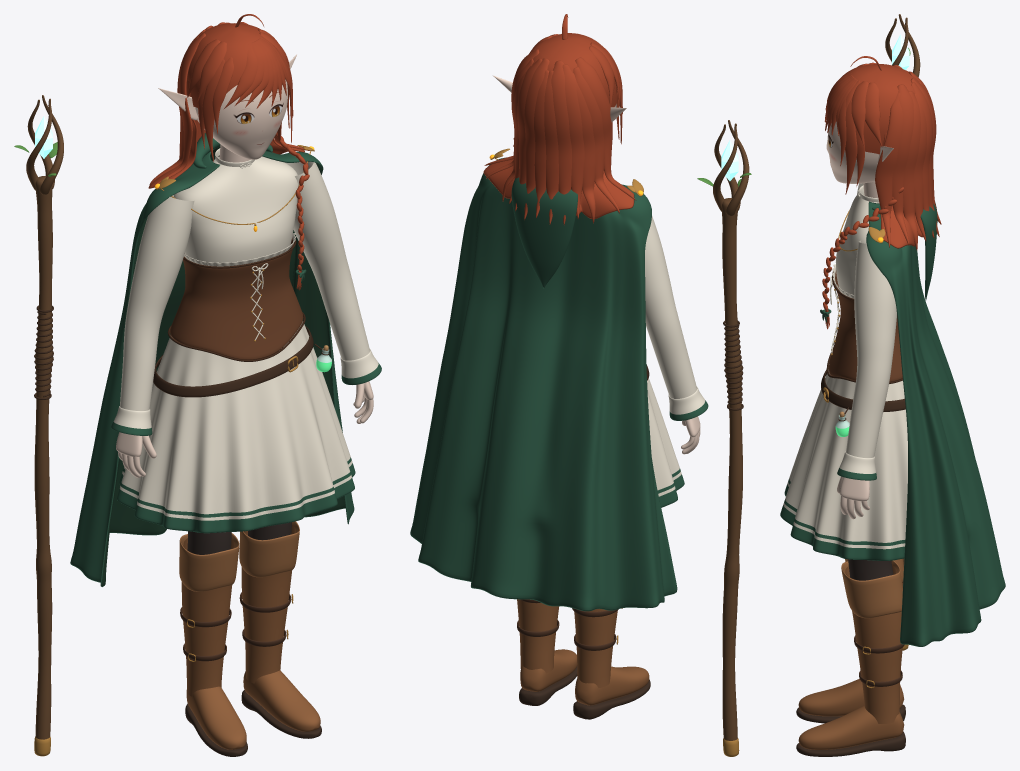
File: elf_mage.glb
3 views of the same model, side by side, from view 1: azimuth 30°, elevation 25°; view 2: azimuth 150°, elevation 25°; view 3: azimuth 270°, elevation 25° (orthographic). The views are drawn at different scales.
Visible parts, largest first — view 1: Skirt, Cape, Corset, Blouse_Torso, Staff_Wood, Sleeve.R, Hair, Sleeve.L, Boot.L, Boot.R, Head, Boot_Cuff.R (+14 smaller); view 2: Cape, Hair, Staff_Wood, Sleeve.R, Hood, Boot.R, Boot.L, Skirt, Hair_Cap, Hair_Back, Boot_Sole.R, Cuff.R (+2 smaller); view 3: Cape, Skirt, Hair, Sleeve.L, Boot.L, Boot_Cuff.L, Corset, Hair_Cap, Boot.R, Blouse_Torso, Head, Hand.L (+9 smaller).
Boxes of the visible parts, x1=… form: Skirt: x1=117, y1=321, x2=355, y2=533; Cape: x1=70, y1=146, x2=354, y2=586; Corset: x1=170, y1=238, x2=303, y2=359; Blouse_Torso: x1=174, y1=155, x2=298, y2=262; Staff_Wood: x1=26, y1=95, x2=63, y2=739; Sleeve.R: x1=119, y1=195, x2=194, y2=410; Hair: x1=149, y1=14, x2=309, y2=186; Sleeve.L: x1=284, y1=161, x2=369, y2=360; Boot.L: x1=241, y1=524, x2=320, y2=731; Boot.R: x1=181, y1=538, x2=246, y2=749; Head: x1=195, y1=79, x2=287, y2=159; Boot_Cuff.R: x1=179, y1=533, x2=239, y2=591; Cape: x1=410, y1=157, x2=677, y2=611; Hair: x1=484, y1=14, x2=636, y2=225; Staff_Wood: x1=713, y1=120, x2=749, y2=740; Sleeve.R: x1=645, y1=216, x2=696, y2=398; Hood: x1=511, y1=177, x2=577, y2=288; Boot.R: x1=574, y1=609, x2=649, y2=705; Boot.L: x1=517, y1=599, x2=577, y2=691; Skirt: x1=647, y1=378, x2=684, y2=507; Hair_Cap: x1=529, y1=33, x2=616, y2=107; Hair_Back: x1=483, y1=159, x2=634, y2=218; Boot_Sole.R: x1=573, y1=679, x2=650, y2=719; Cuff.R: x1=668, y1=386, x2=708, y2=420; Cape: x1=866, y1=201, x2=1005, y2=646; Skirt: x1=780, y1=369, x2=907, y2=560; Hair: x1=824, y1=56, x2=941, y2=250; Sleeve.L: x1=846, y1=240, x2=896, y2=457; Boot.L: x1=798, y1=565, x2=904, y2=749; Boot_Cuff.L: x1=841, y1=560, x2=902, y2=618; Corset: x1=829, y1=270, x2=902, y2=382; Hair_Cap: x1=841, y1=64, x2=919, y2=154; Boot.R: x1=798, y1=582, x2=904, y2=716; Blouse_Torso: x1=836, y1=193, x2=879, y2=297; Head: x1=826, y1=121, x2=878, y2=183; Hand.L: x1=837, y1=476, x2=869, y2=519.
Size of the model in its own units: 0.8011 by 1.56 by 0.4676.
Materials: 26 (1 with a texture image).
